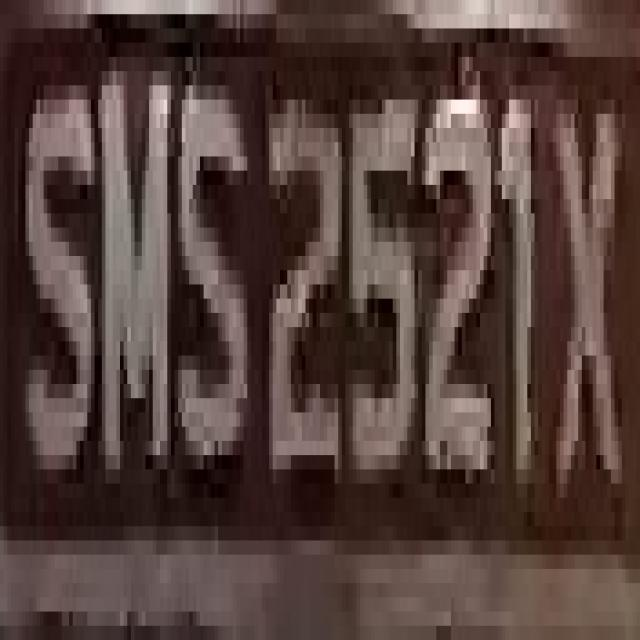1: (415, 71, 498, 498), (262, 100, 345, 512), (509, 57, 542, 498)
5: (346, 71, 418, 498)
M: (91, 43, 178, 526)
S: (14, 43, 102, 469), (178, 57, 251, 498)
W: (546, 28, 629, 540)
